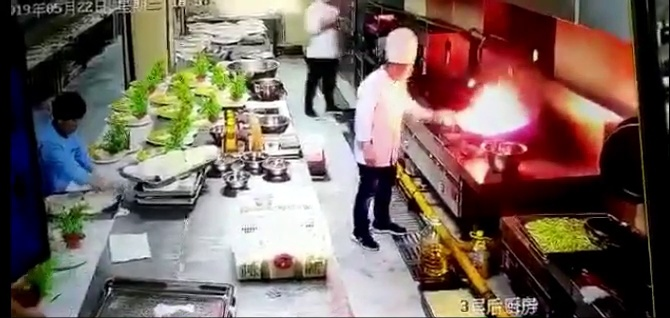fire: (462, 78, 537, 134)
